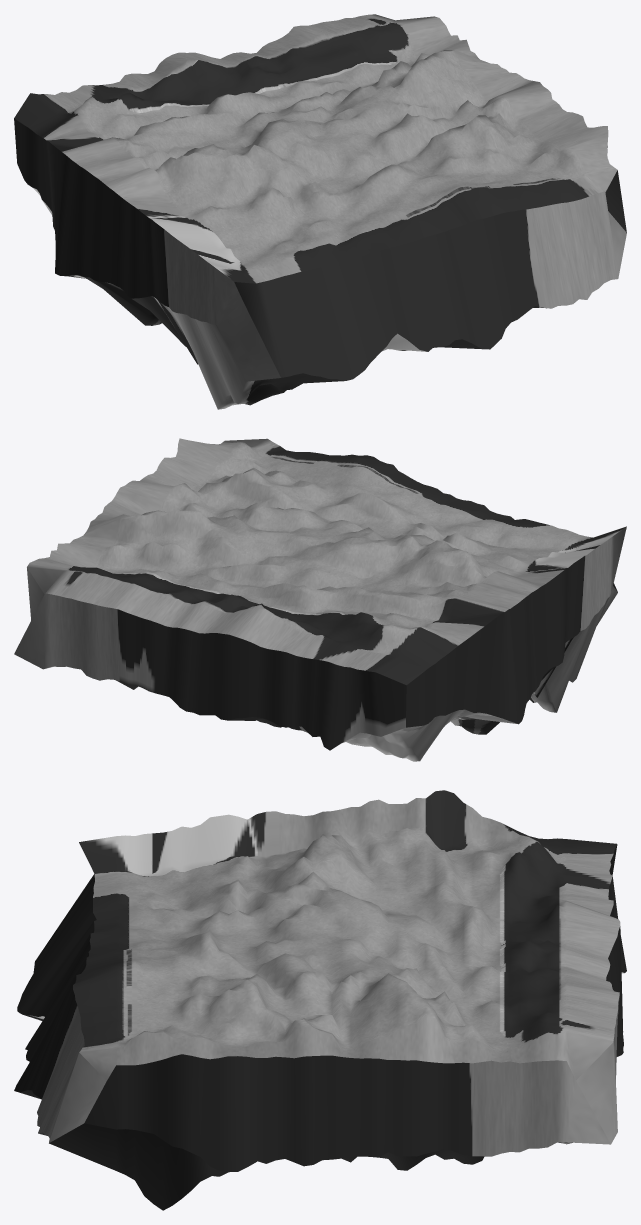
3 views of the same model, one above another, from view 1: azimuth 30°, elevation 25°; view 2: azimuth 150°, elevation 25°; view 3: azimuth 270°, elevation 25° (orthographic). The views are drawn at different scales.
Parts seen in each view (by area): view 1: pCube1; view 2: pCube1; view 3: pCube1.
Boxes of the visible parts, x1,y1,x2,y2 form: pCube1: [14, 14, 626, 409]; pCube1: [14, 438, 626, 761]; pCube1: [14, 790, 626, 1210].
Size of the model in its own units: 25.86 by 11.2 by 25.88.
